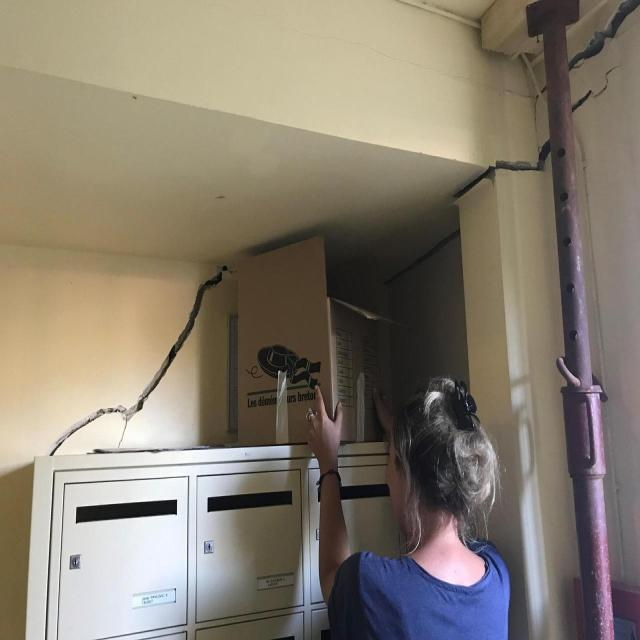crack: (49, 267, 227, 457), (452, 137, 552, 203)
